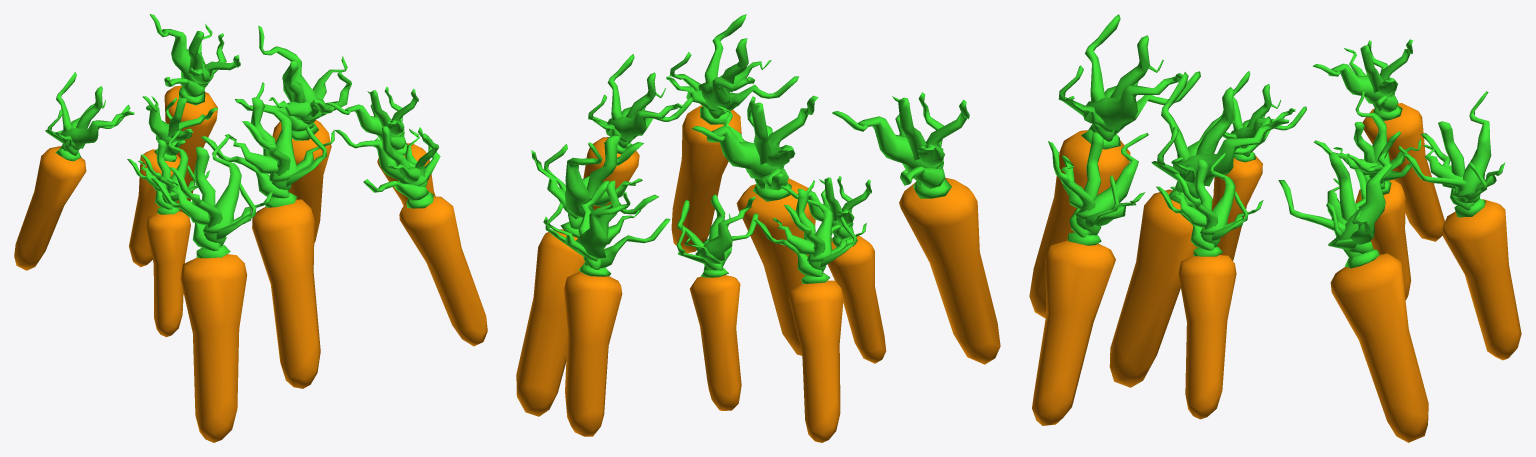
Rendered from carrot_stage_2.glb.
3 renders of one model, left to right at view 1: azimuth 30°, elevation 25°; view 2: azimuth 150°, elevation 25°; view 3: azimuth 270°, elevation 25°, orthographic. The views are drawn at different scales.
Parts seen in each view (by area): view 1: carrot_stage_2; view 2: carrot_stage_2; view 3: carrot_stage_2.
Part boxes in pixels (bbox=[...]): carrot_stage_2: bbox=[14, 14, 487, 442]; carrot_stage_2: bbox=[516, 14, 1000, 442]; carrot_stage_2: bbox=[1029, 14, 1521, 442].
Size of the model in its own units: 1.04 by 0.7561 by 1.13.
